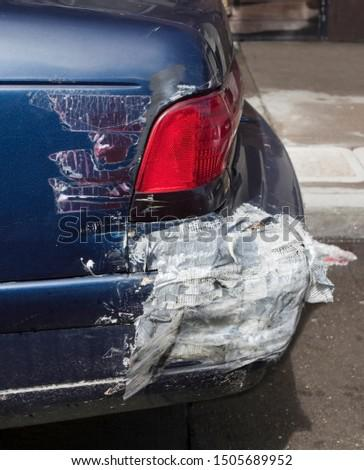quaterpanel-dent: (0, 80, 167, 282)
rear-bumper-dent: (0, 237, 359, 422)
